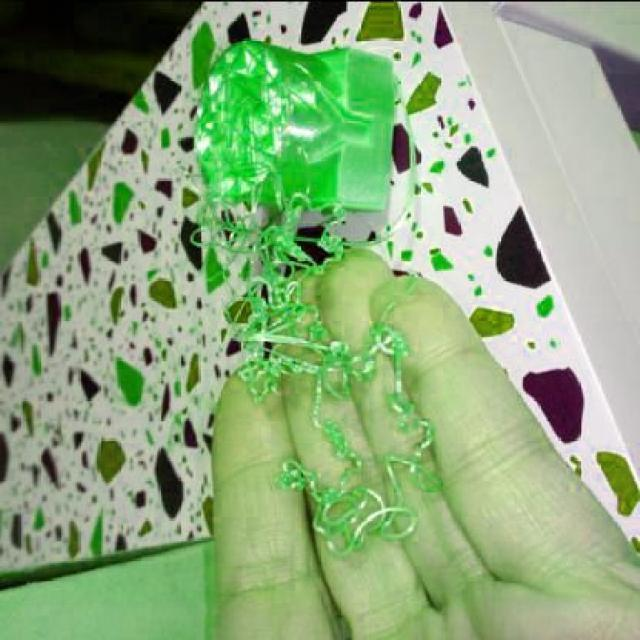spaghetti: (188, 148, 440, 556)
